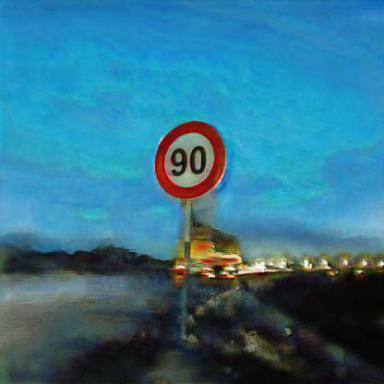Speed_limit_90: (157, 119, 225, 198)
